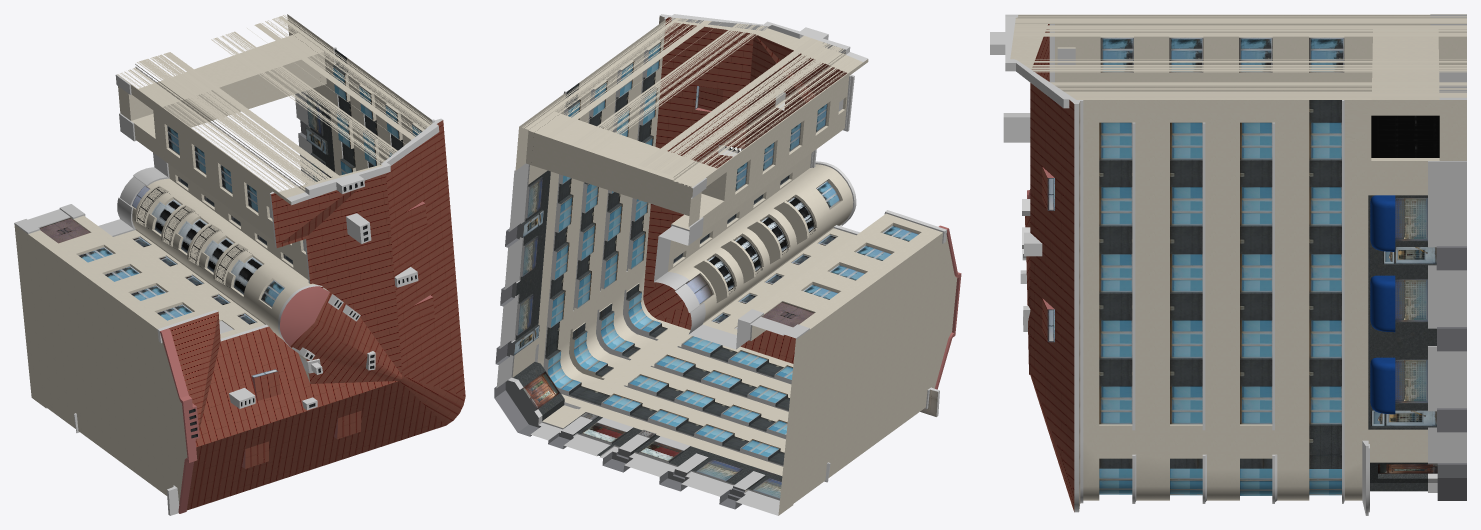
File: Aia_5.obj
The picture shows the model from 3 angles, left to right: view 1: azimuth 30°, elevation 25°; view 2: azimuth 150°, elevation 25°; view 3: azimuth 270°, elevation 25°; orthographic projection. The views are drawn at different scales.
Parts seen in each view (by area): view 1: Aia5; view 2: Aia5; view 3: Aia5.
Part boxes in pixels (x1,y1,x2,y2): Aia5: (14,14,465,515); Aia5: (494,14,961,515); Aia5: (990,14,1466,515).
Size of the model in its own units: 23.27 by 23.99 by 23.59.
